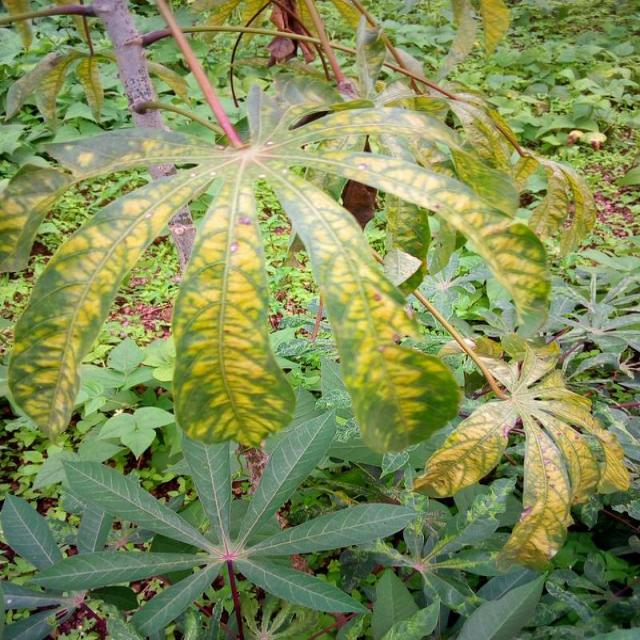cassava leaf: (5, 74, 552, 456), (170, 161, 296, 447)
